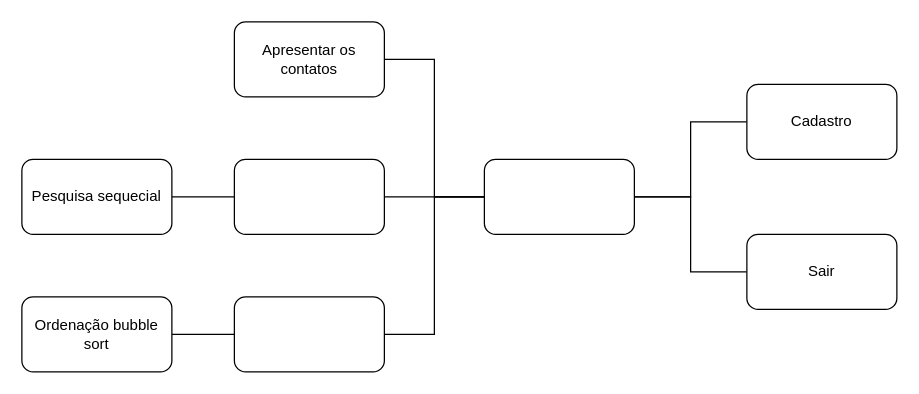
Image size: 919x394. Some labels were removed from this diagram. The centre of each missing label's shape, as x and y in pixels:
Classificar: pixel 308 334
Menu: pixel 558 196
Pesquisar: pixel 308 196
